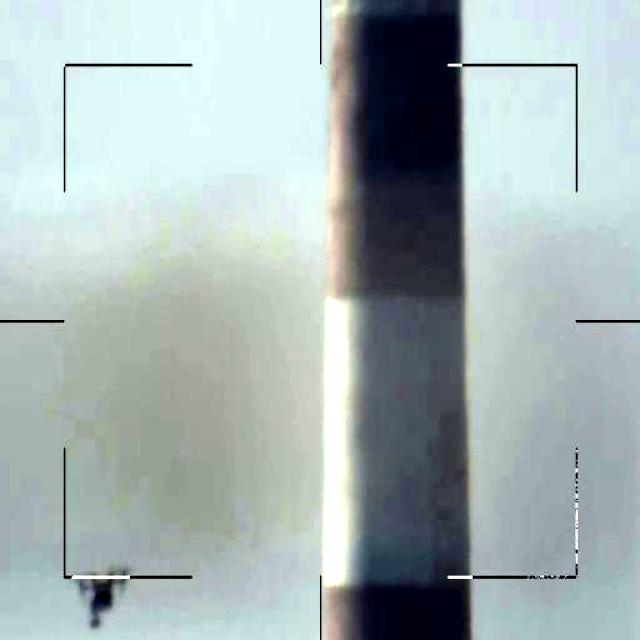bird: (111, 562, 186, 636)
